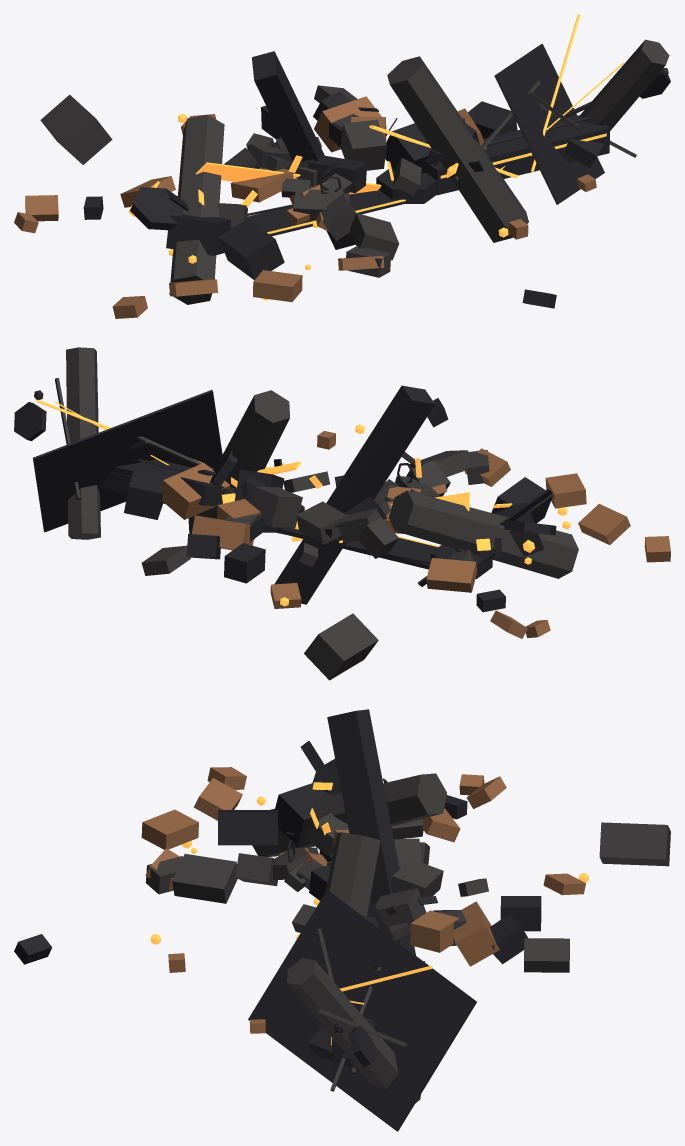
Rendered from Wreck_FirewallGate.fbx.
The picture shows the model from 3 angles, top to bottom: view 1: azimuth 30°, elevation 25°; view 2: azimuth 150°, elevation 25°; view 3: azimuth 270°, elevation 25°; orthographic projection. The views are drawn at different scales.
Parts seen in each view (by area): view 1: Wreck_FirewallGate; view 2: Wreck_FirewallGate; view 3: Wreck_FirewallGate.
Boxes of the visible parts, left/top/right/bottom form: Wreck_FirewallGate: left=14, top=14, right=670, bottom=318; Wreck_FirewallGate: left=14, top=347, right=670, bottom=680; Wreck_FirewallGate: left=14, top=709, right=670, bottom=1131.
Size of the model in its own units: 3.57 by 1.28 by 3.07.
